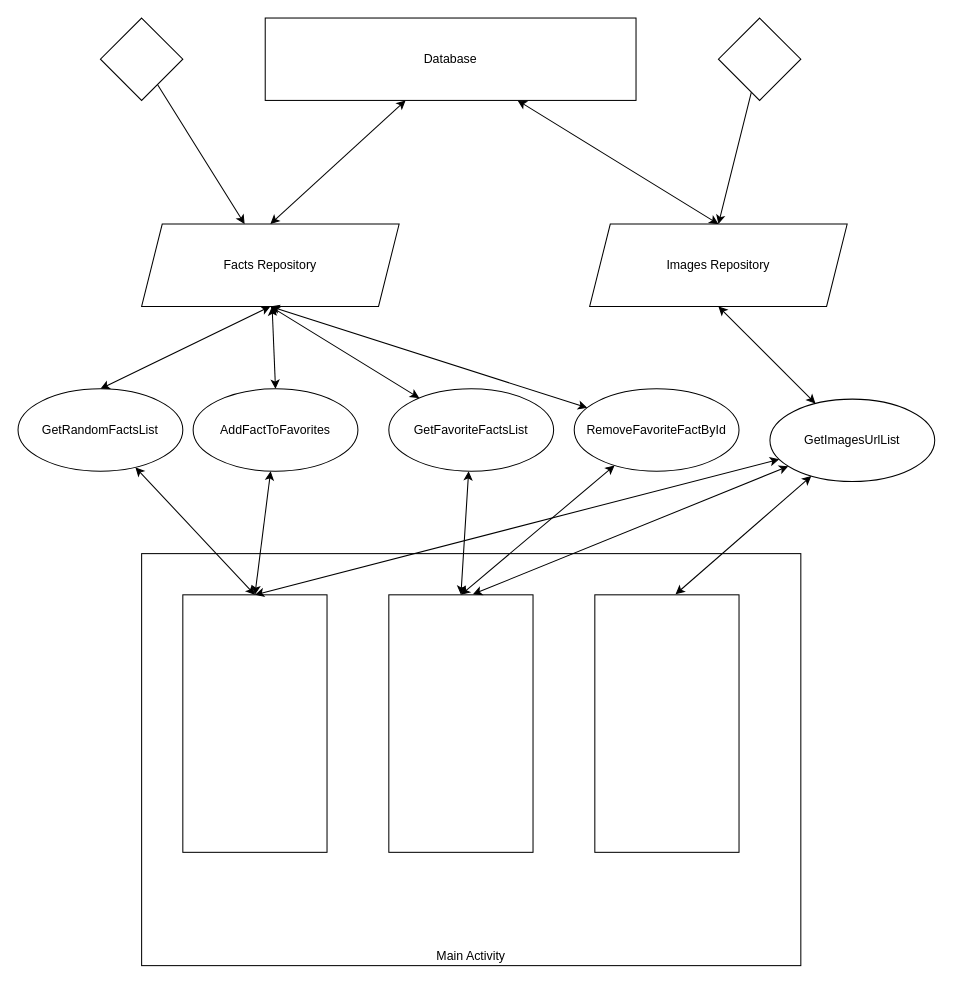
Image size: 953x984. Some labels were removed from this diagram. The shapes that lost their labels are listed below. From the top down, each one's centre as x and y in pixels, then its label:
At [141,58]: "Facts API".
At [759,58]: "Images API".
At [254,723]: "Random Screen".
At [460,723]: "Favorite Facts List Screen".
At [666,723]: "Favorite Fact Screen".
